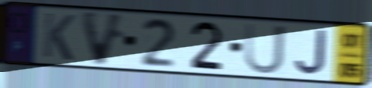2: (140, 17, 179, 70), (189, 20, 224, 73)
J: (293, 29, 328, 77)
K: (41, 11, 77, 63)
U: (244, 21, 288, 77)
V: (79, 9, 128, 68)
